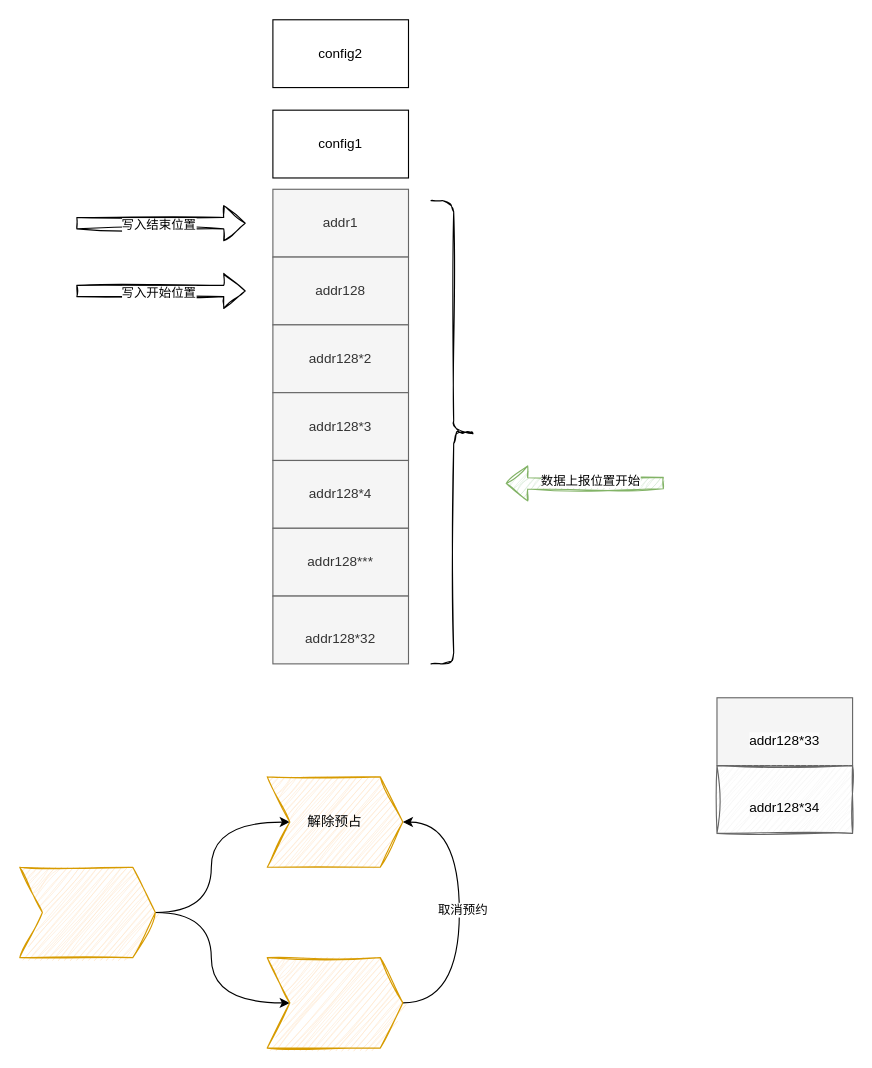
The diagram is 872 pixels wide and 1068 high, and some of its shapes have lost their labels. Each missing label, with the box of its shape:
page页: (430, 199, 476, 664)
已预占: (19, 866, 155, 958)
已预约: (266, 957, 403, 1048)
